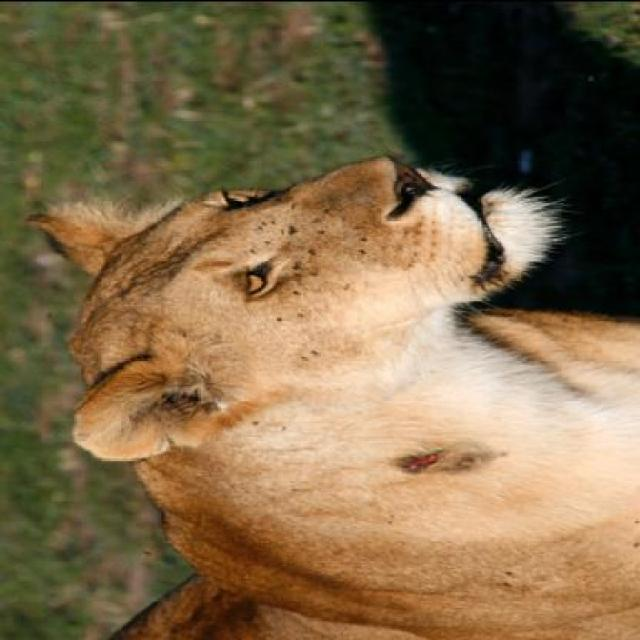Lion: (31, 143, 638, 635)
